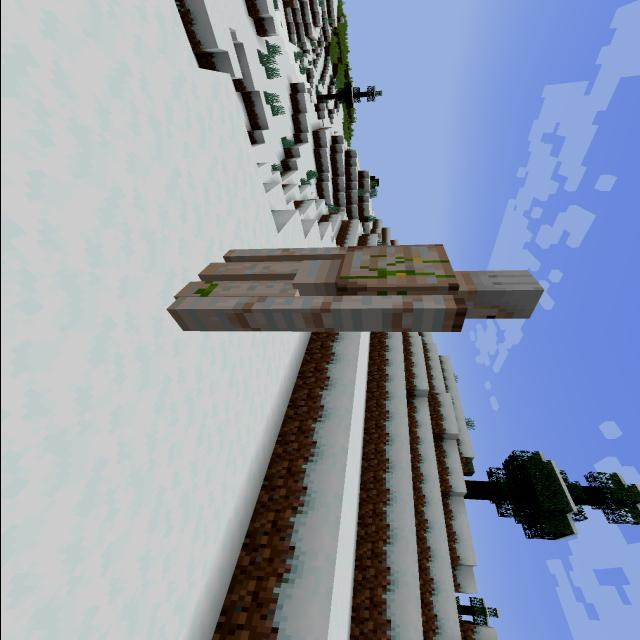iron golem: (157, 231, 549, 345)
